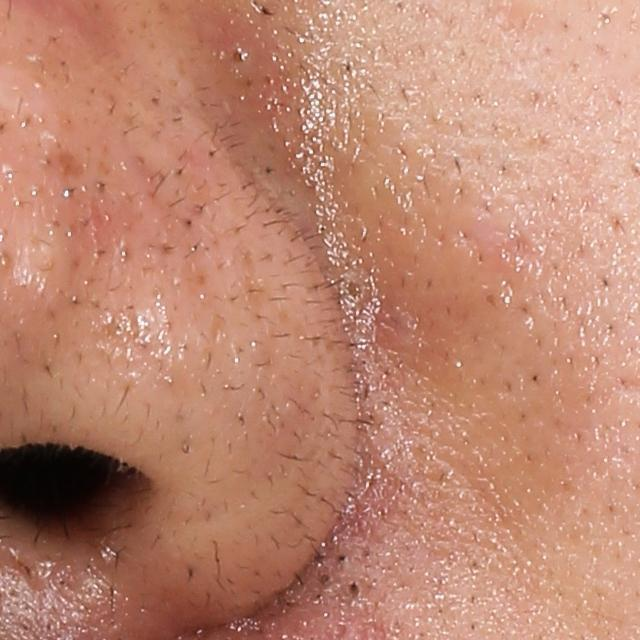comedo: (337, 575, 370, 601)
